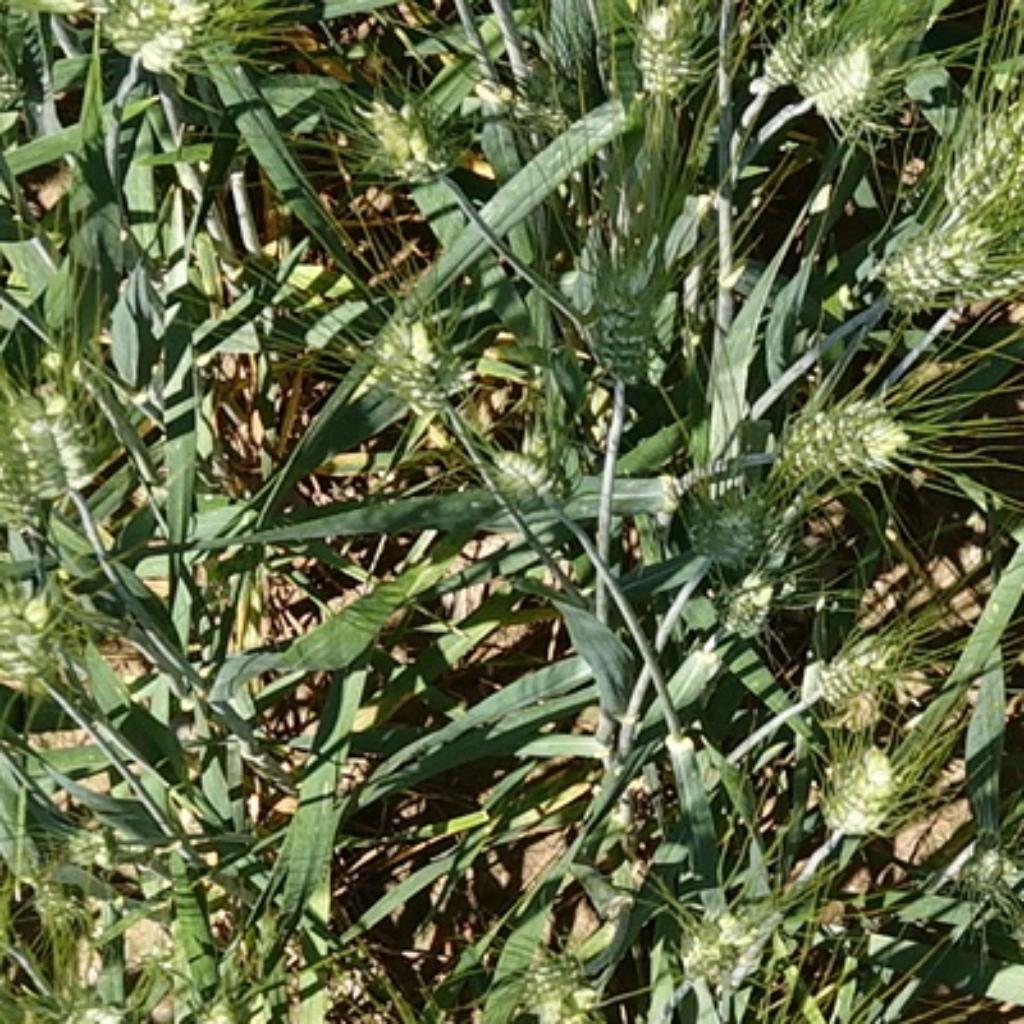0-0: (865, 197, 1008, 312), (343, 69, 473, 184), (345, 294, 471, 412), (926, 81, 1024, 225), (739, 2, 849, 117), (585, 246, 672, 390), (2, 573, 81, 721), (7, 373, 94, 504), (777, 402, 913, 483), (931, 217, 1024, 335), (84, 2, 232, 71), (806, 729, 903, 834), (798, 630, 910, 714), (509, 926, 604, 1024), (688, 471, 775, 560), (784, 31, 876, 115), (627, 2, 711, 94), (939, 819, 1024, 903), (709, 555, 785, 634), (668, 922, 755, 990), (33, 965, 133, 1024), (20, 855, 87, 939), (180, 975, 287, 1024), (492, 447, 560, 517)
